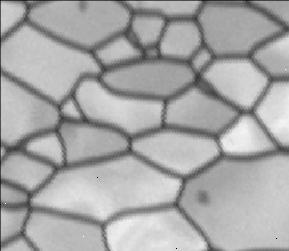good_void: (194, 183, 214, 210), (72, 0, 90, 16)
